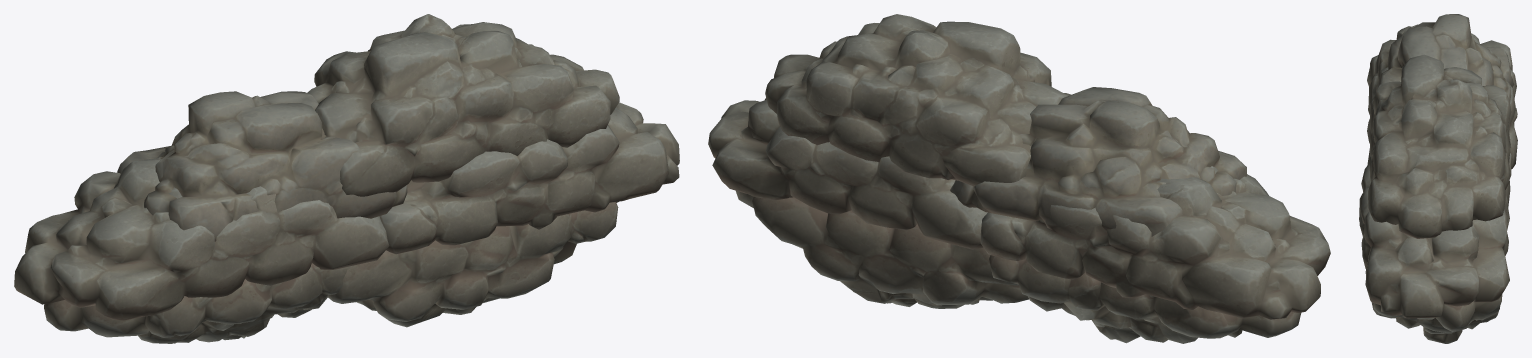
File: MSH_fwOF_Ruins_Wall_Low_Broken_02.fbx
3 renders of one model, left to right at view 1: azimuth 30°, elevation 25°; view 2: azimuth 150°, elevation 25°; view 3: azimuth 270°, elevation 25°, orthographic. The views are drawn at different scales.
Parts seen in each view (by area): view 1: MSH_fwOF_Ruins_Wall_Low_Broken_02_LOD0; view 2: MSH_fwOF_Ruins_Wall_Low_Broken_02_LOD0; view 3: MSH_fwOF_Ruins_Wall_Low_Broken_02_LOD0.
Boxes of the visible parts, bbox=[...] form: MSH_fwOF_Ruins_Wall_Low_Broken_02_LOD0: bbox=[14, 14, 679, 343]; MSH_fwOF_Ruins_Wall_Low_Broken_02_LOD0: bbox=[708, 14, 1330, 343]; MSH_fwOF_Ruins_Wall_Low_Broken_02_LOD0: bbox=[1359, 14, 1517, 343].
Size of what is drawn, in the model's own units: 4.8 by 2.11 by 1.27.
